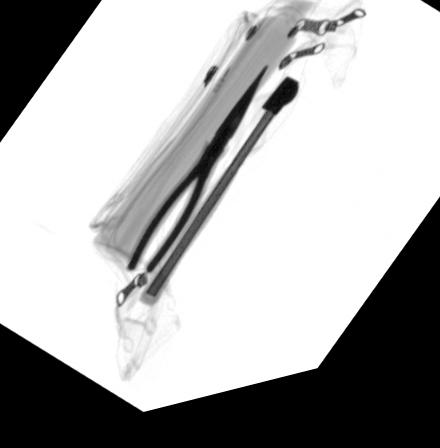Hammer: (139, 91, 298, 314)
Pliers: (125, 78, 266, 283)
